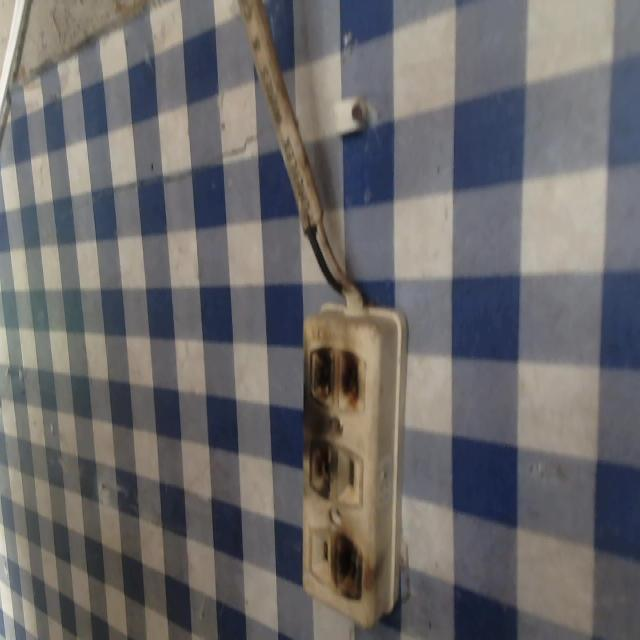-: (304, 337, 380, 419), (330, 528, 368, 607), (301, 433, 340, 504)
